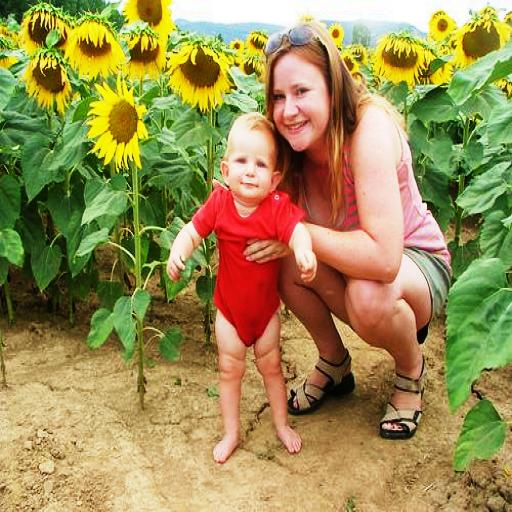sunflower: (85, 79, 148, 172), (169, 40, 234, 110), (369, 26, 433, 86), (66, 12, 123, 79), (22, 48, 74, 114), (452, 12, 511, 64), (20, 2, 72, 54)
